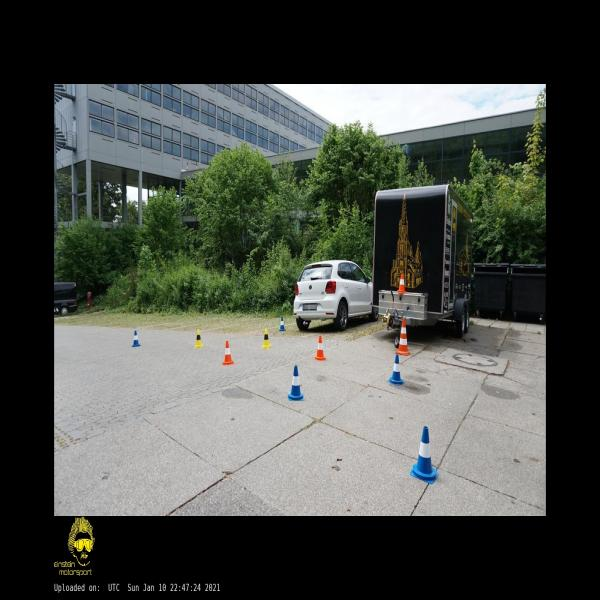blue_cone: (410, 426, 439, 484), (288, 366, 304, 400), (388, 354, 405, 386), (132, 331, 140, 346), (279, 316, 286, 331)
large_orange_cone: (395, 318, 411, 356)
orange_cone: (222, 340, 234, 365), (314, 335, 326, 360), (397, 273, 407, 293)
yellow_cone: (261, 328, 272, 349), (195, 329, 203, 347)
